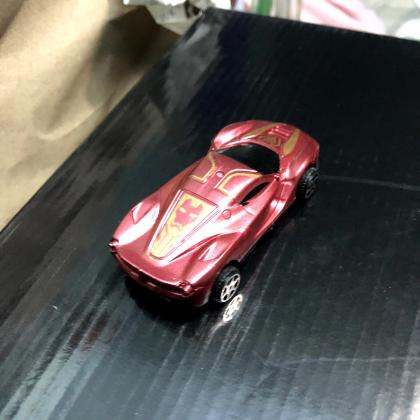Car: (108, 120, 320, 312)
